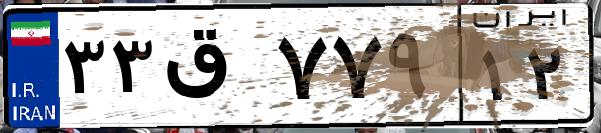1: (475, 38, 525, 113)
2: (525, 38, 570, 115)
3: (57, 26, 110, 100), (110, 28, 158, 98)
7: (270, 28, 330, 110), (330, 28, 385, 110)
9: (385, 28, 445, 110)
ق: (158, 20, 270, 120)
